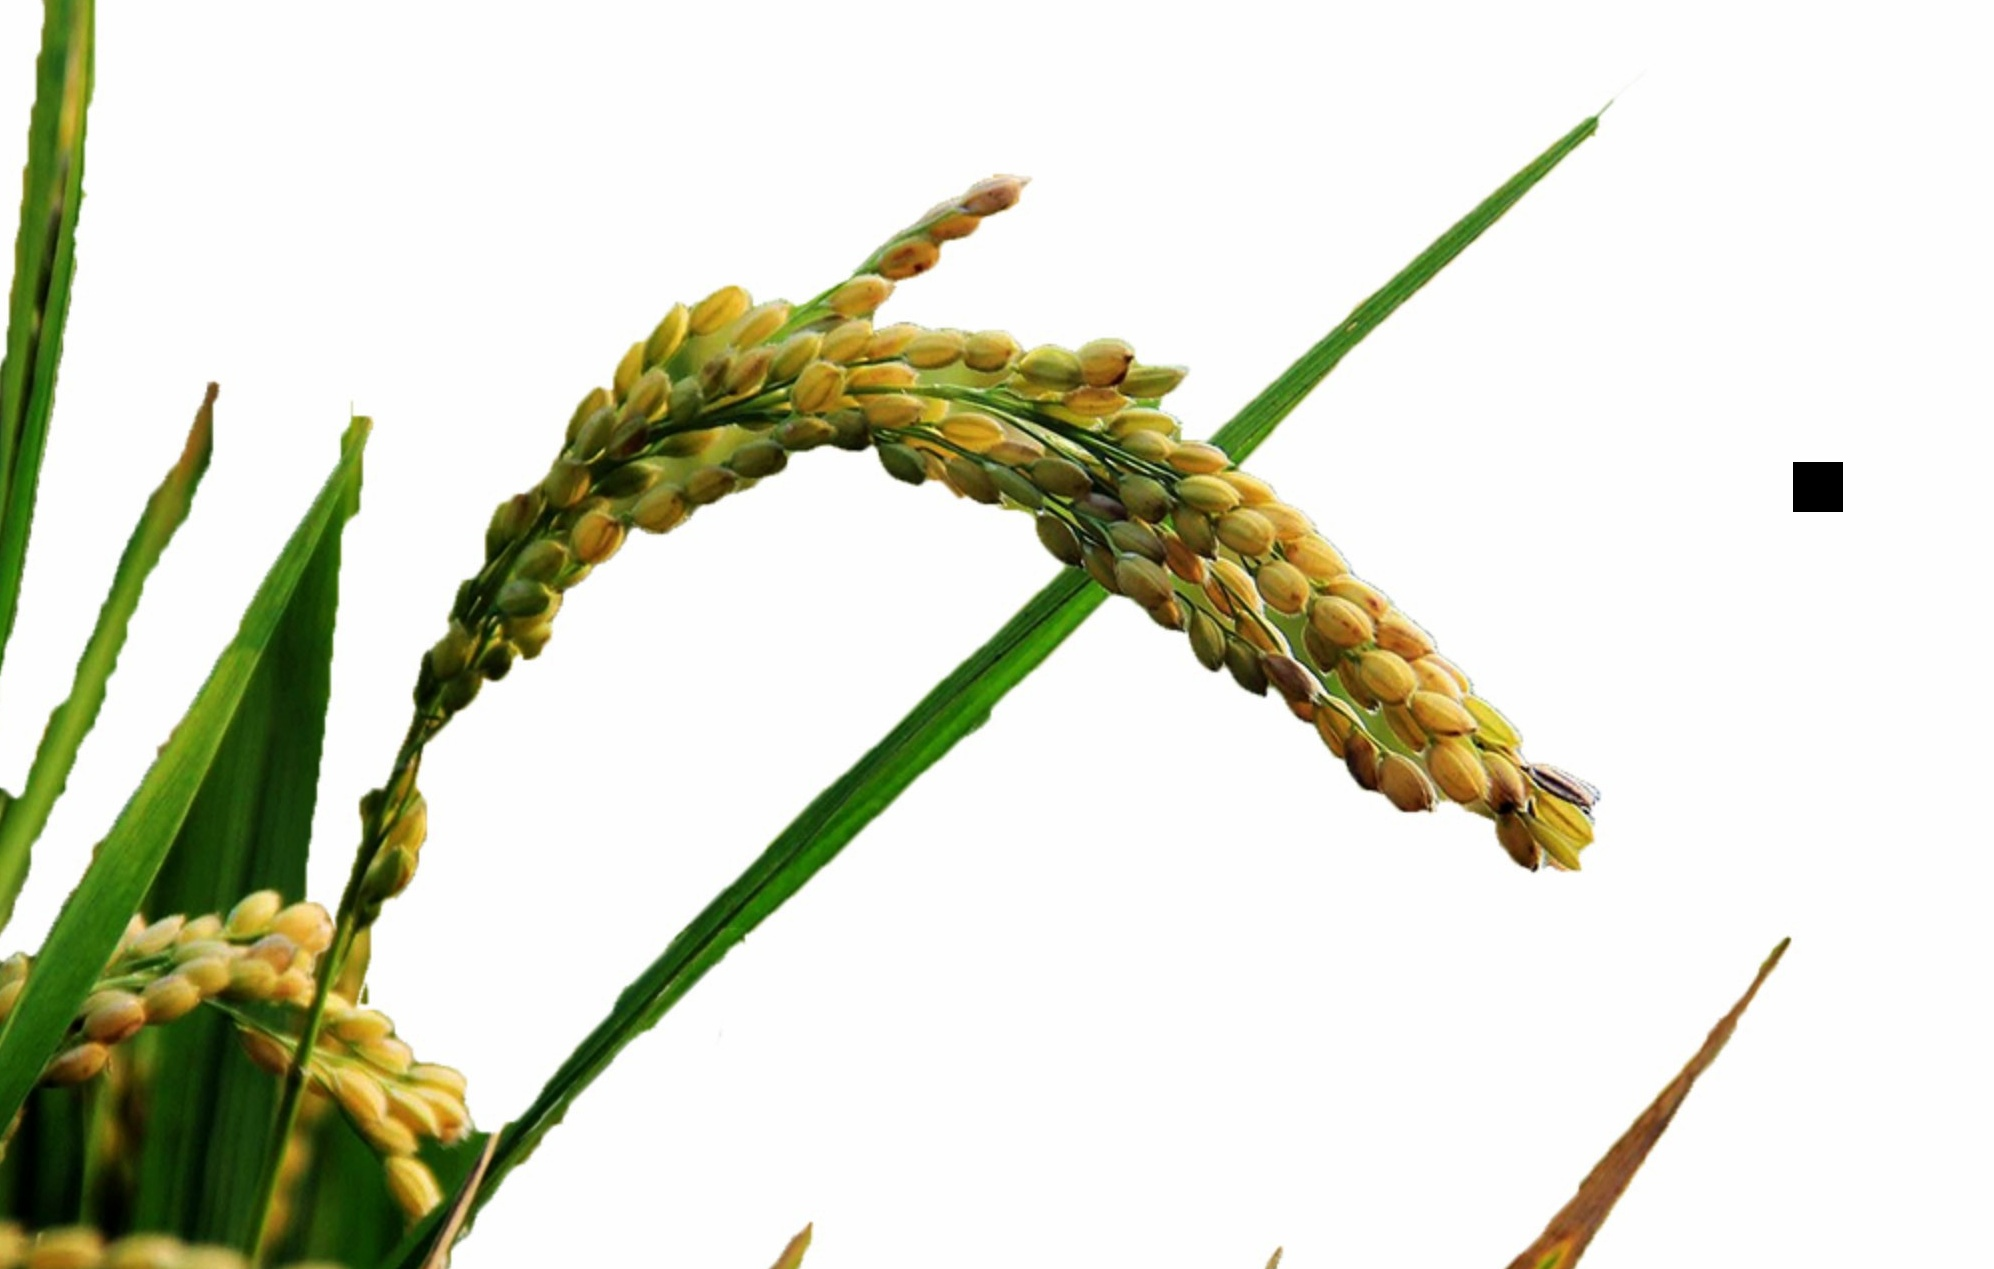rice: (320, 126, 1626, 984)
